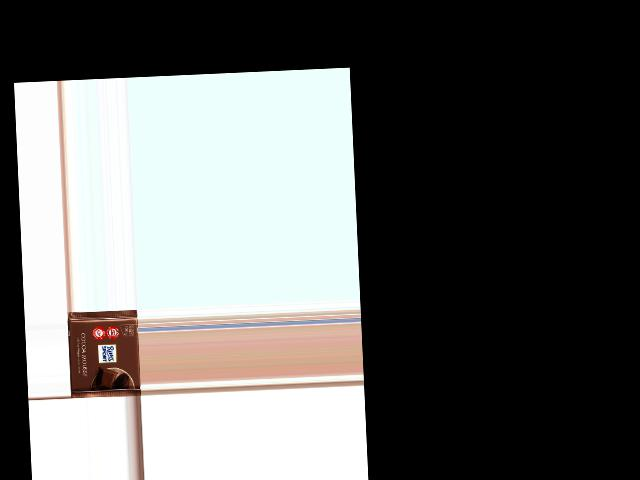chocolate: (66, 310, 140, 398)
